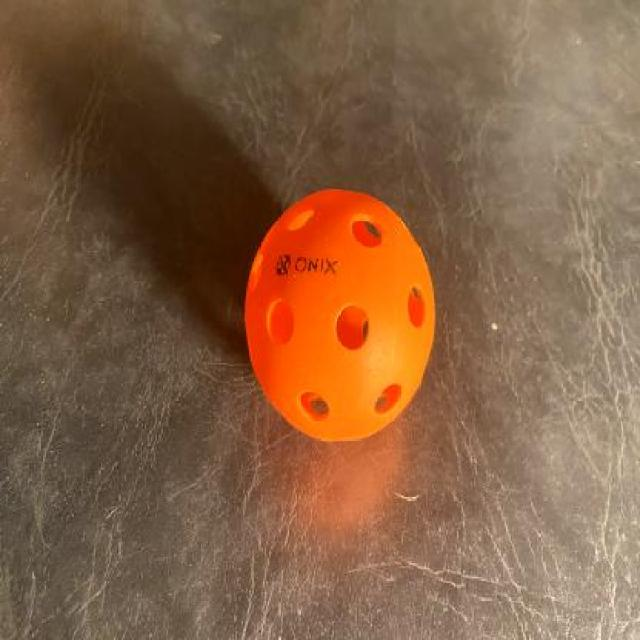ball: (242, 184, 452, 438)
